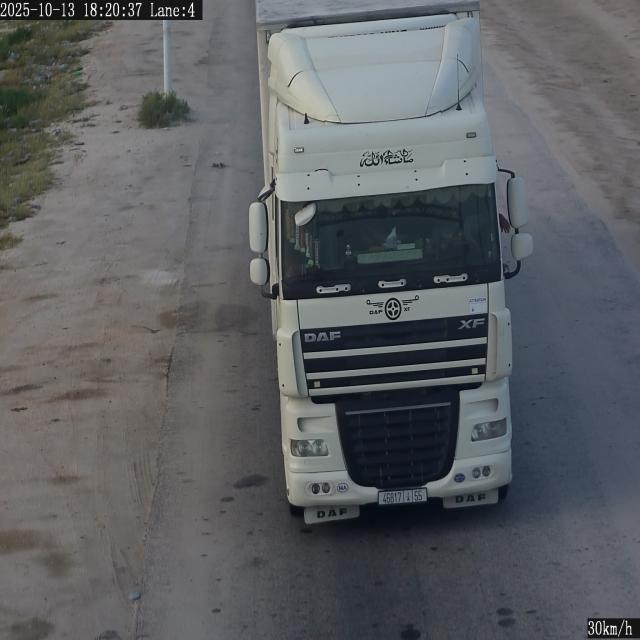BUS: (378, 488, 427, 505)
